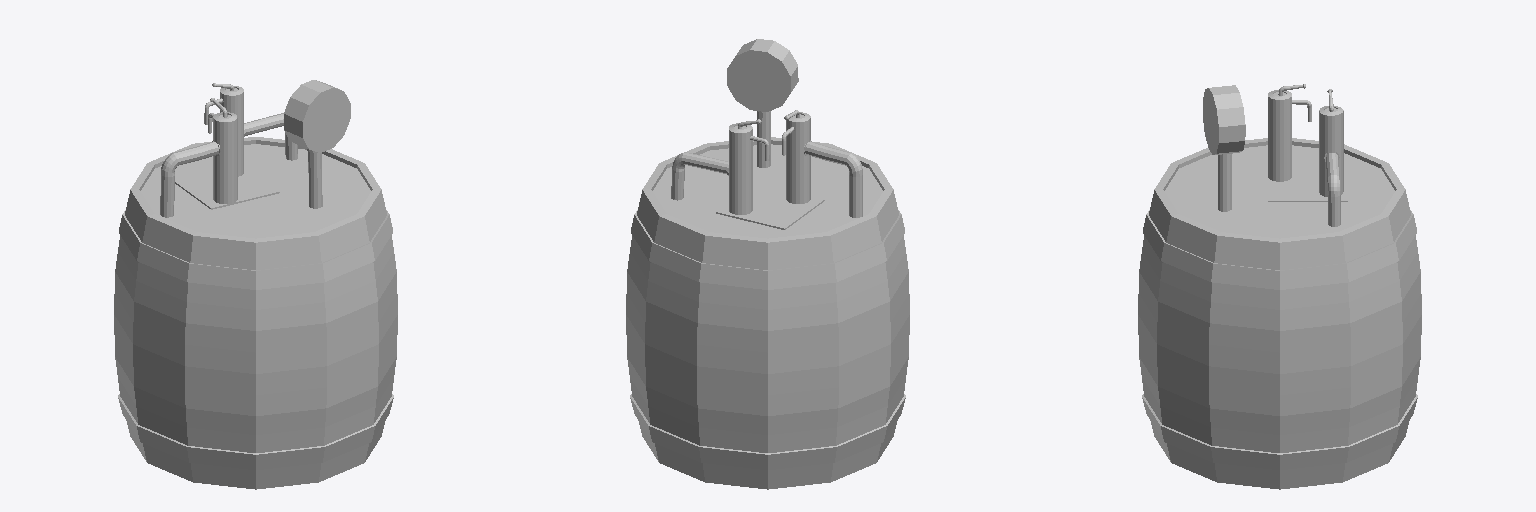
File: Steam Barrel.obj
The picture shows the model from 3 angles: view 1: azimuth 30°, elevation 25°; view 2: azimuth 150°, elevation 25°; view 3: azimuth 270°, elevation 25°; orthographic projection.
Visible parts, largest first — view 1: pPipe1, pCylinder2, pCylinder3, pCube1, pasted__pasted__pCylinder1 pasted__group group1, pasted__pCylinder3 group4, pasted__pCylinder1 group, pCylinder1; view 2: pPipe1, pCylinder2, pCube1, pasted__pCylinder3 group4, pCylinder3, pasted__pasted__pCylinder1 pasted__group group1, pasted__pCylinder1 group, pCylinder1; view 3: pPipe1, pCylinder2, pCylinder3, pCube1, pasted__pCylinder3 group4, pasted__pCylinder1 group, pCylinder1.
Boxes of the visible parts, x1,y1,x2,y2 form: pPipe1: [114, 137, 397, 489]; pCylinder2: [284, 80, 350, 152]; pCylinder3: [213, 112, 237, 204]; pCube1: [175, 166, 279, 209]; pasted__pasted__pCylinder1 pasted__group group1: [160, 140, 220, 217]; pasted__pCylinder3 group4: [220, 86, 243, 176]; pasted__pCylinder1 group: [244, 113, 297, 160]; pCylinder1: [307, 149, 322, 208]; pPipe1: [626, 137, 909, 489]; pCylinder2: [727, 39, 798, 111]; pCube1: [716, 183, 824, 229]; pasted__pCylinder3 group4: [729, 123, 752, 214]; pCylinder3: [786, 112, 810, 203]; pasted__pasted__pCylinder1 pasted__group group1: [804, 140, 862, 217]; pasted__pCylinder1 group: [671, 152, 728, 200]; pCylinder1: [757, 111, 770, 167]; pPipe1: [1138, 138, 1421, 489]; pCylinder2: [1203, 85, 1245, 154]; pCylinder3: [1268, 90, 1291, 181]; pCube1: [1268, 167, 1347, 201]; pasted__pCylinder3 group4: [1319, 106, 1343, 196]; pasted__pCylinder1 group: [1324, 152, 1340, 226]; pCylinder1: [1218, 153, 1232, 211].
Size of the model in its own units: 10.64 by 15.07 by 10.64.